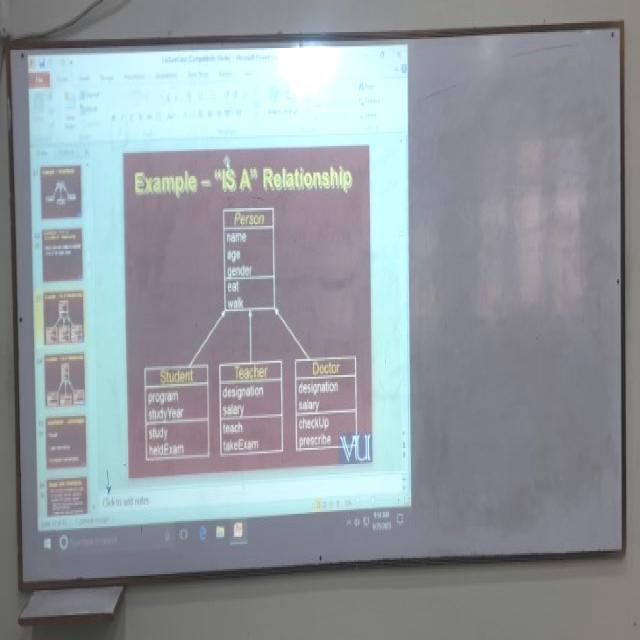Slide: (29, 34, 415, 567)
White-board: (10, 21, 624, 585)
